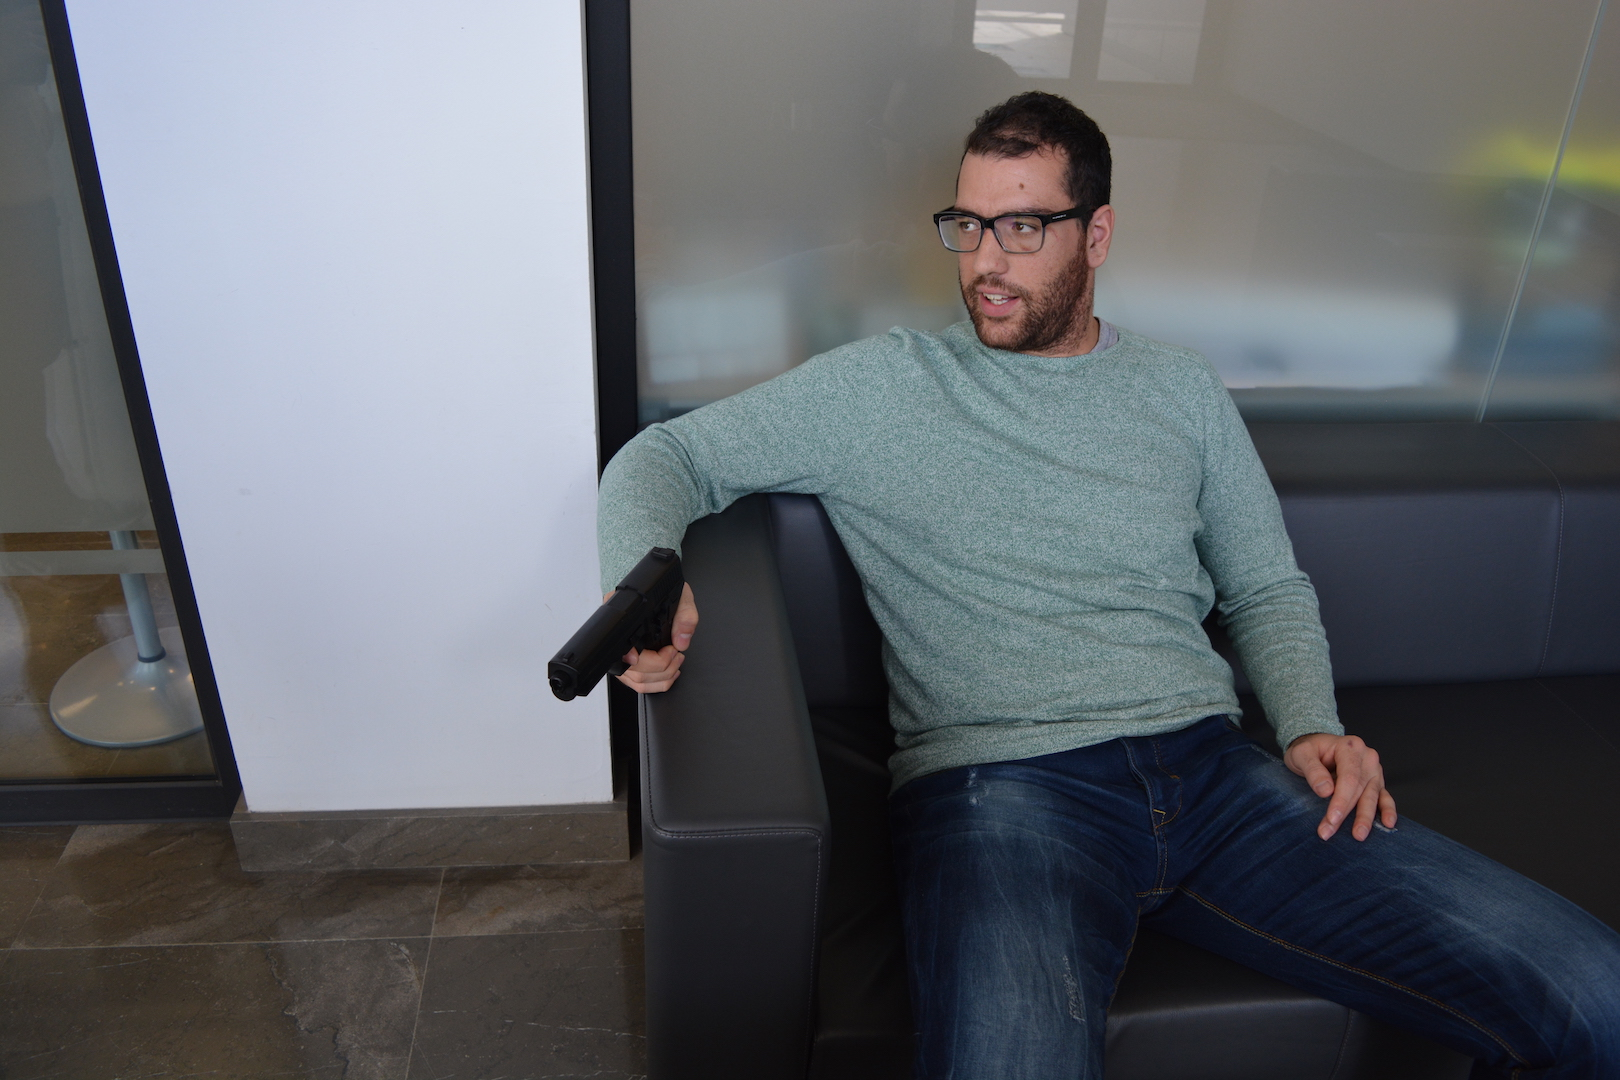pistol: (547, 545, 687, 703)
